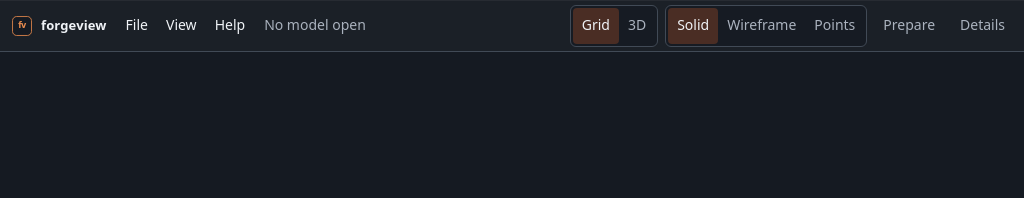
Test: Toolbar application menus › opens and closes the File menu after choosing Open file
The image size is (1024, 198).
Click the button "File" at (137,26), box [117, 8, 157, 44]
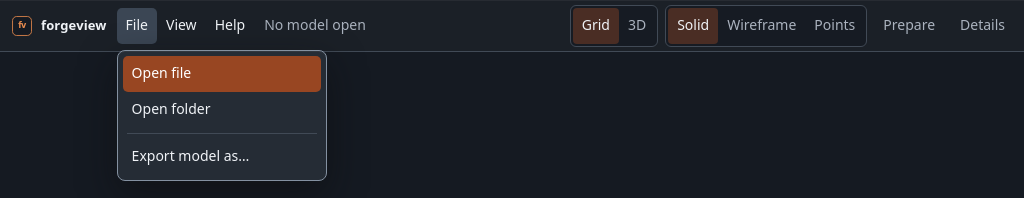
Click the menu item "Open file" at (222,74), box [123, 56, 321, 92]
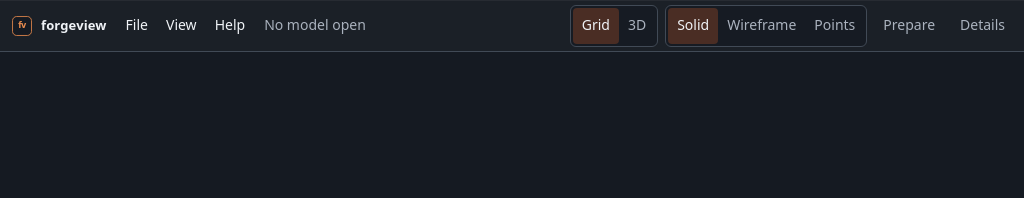
Expected: the menu with test id "toolbar-file-menu" is gone
